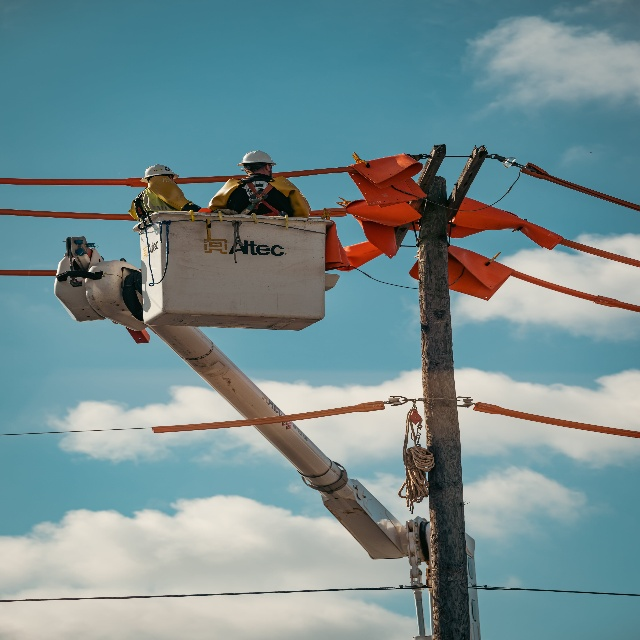Guantes: (181, 200, 237, 216)
